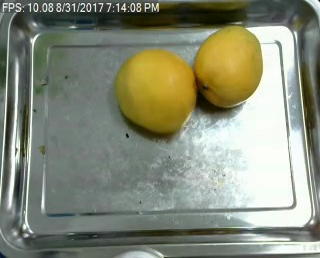Mango: (114, 47, 198, 133), (194, 24, 264, 109)
